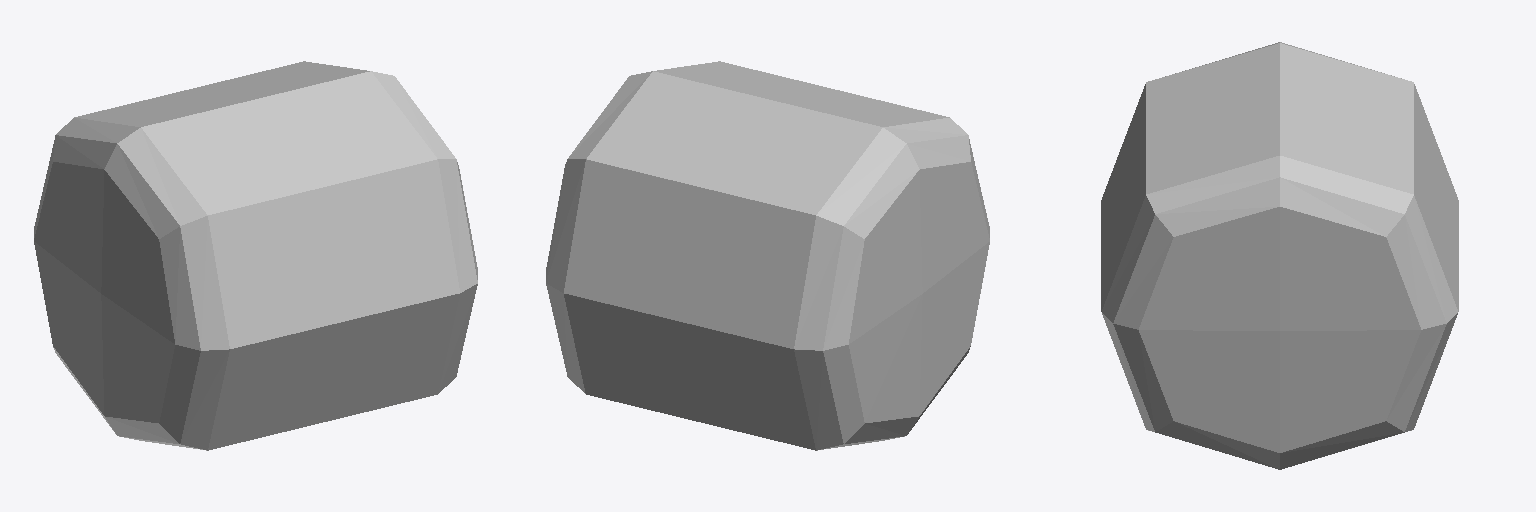
3 views of the same model, side by side, from view 1: azimuth 30°, elevation 25°; view 2: azimuth 150°, elevation 25°; view 3: azimuth 270°, elevation 25° (orthographic).
Visible parts, largest first — view 1: part5:wheel 1; view 2: part5:wheel 1; view 3: part5:wheel 1.
Boxes of the visible parts, x1=… form: part5:wheel 1: x1=34, y1=61, x2=477, y2=450; part5:wheel 1: x1=546, y1=61, x2=989, y2=450; part5:wheel 1: x1=1101, y1=42, x2=1458, y2=469.
Size of the model in its own units: 0.0502 by 0.0486 by 0.0502.